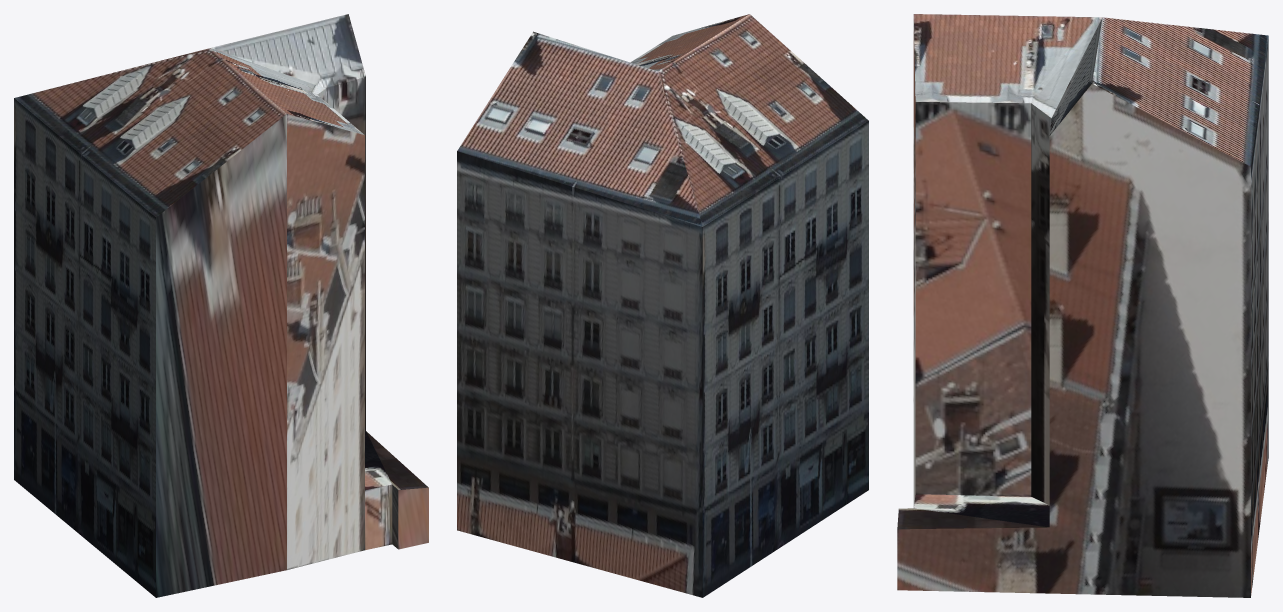
3 renders of one model, left to right at view 1: azimuth 30°, elevation 25°; view 2: azimuth 150°, elevation 25°; view 3: azimuth 270°, elevation 25°, orthographic. The views are drawn at different scales.
Parts seen in each view (by area): view 1: Z_UP; view 2: Z_UP; view 3: Z_UP.
Part boxes in pixels (x1=…): Z_UP: x1=14, y1=14, x2=428, y2=597; Z_UP: x1=457, y1=14, x2=868, y2=597; Z_UP: x1=897, y1=14, x2=1268, y2=597.
Bounding box in the file's own units: 17.41 × 27.93 × 18.4.
Materials: 2 (1 with a texture image).
